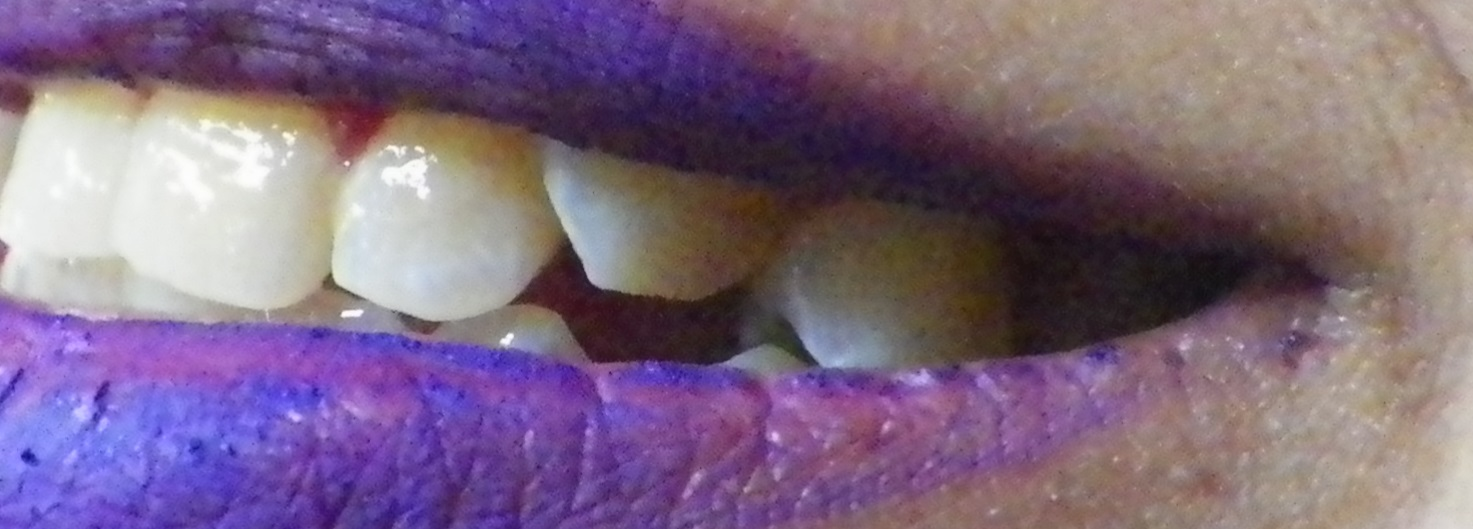boca: (6, 75, 1041, 365)
